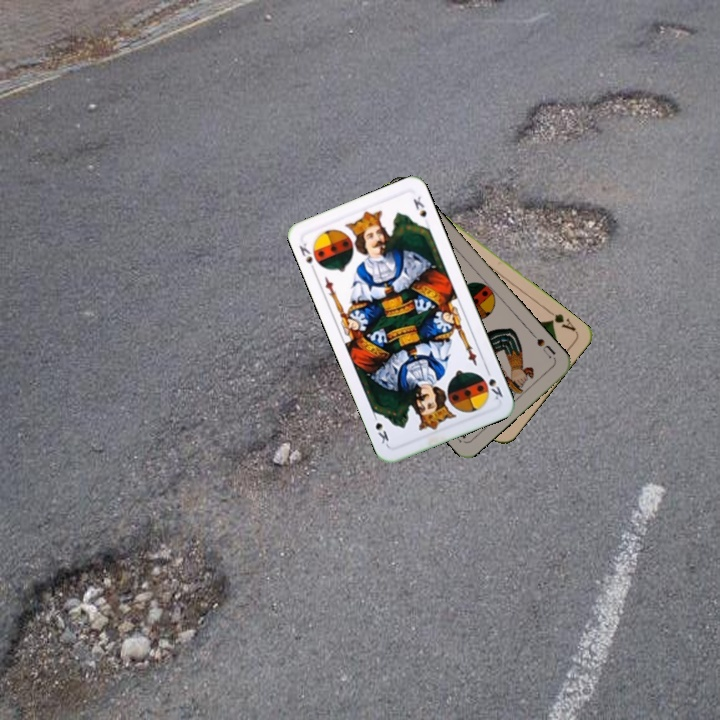GA: (543, 306, 579, 334)
SK: (478, 364, 505, 402), (295, 239, 319, 275)
SU: (527, 329, 558, 362)
